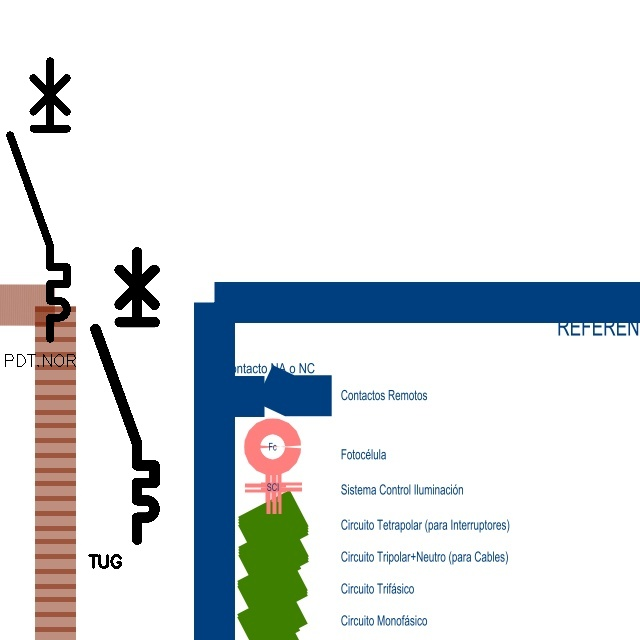interruptor_termomagnetico: (88, 245, 162, 547), (3, 54, 74, 346)
